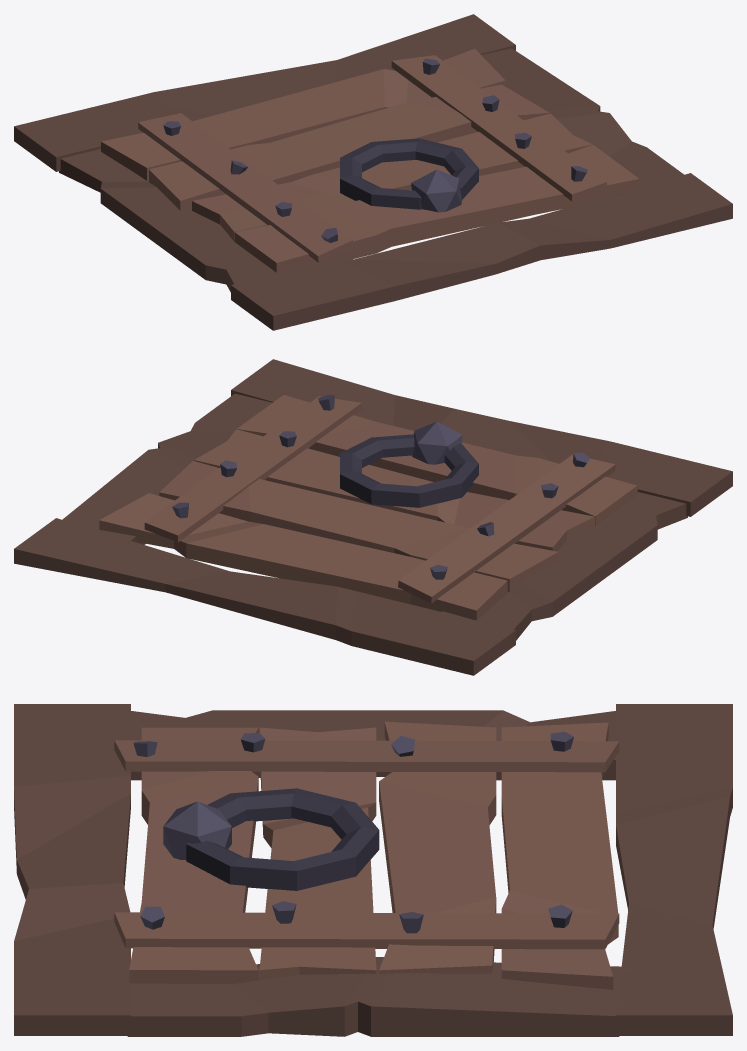
The model's file is Dungeon_Trapdoor.glb.
3 renders of one model, top to bottom at view 1: azimuth 30°, elevation 25°; view 2: azimuth 150°, elevation 25°; view 3: azimuth 270°, elevation 25°, orthographic. The views are drawn at different scales.
Parts seen in each view (by area): view 1: Trapdoor; view 2: Trapdoor; view 3: Trapdoor.
Boxes of the visible parts, x1,y1,x2,y2 form: Trapdoor: (14, 14, 732, 330); Trapdoor: (14, 359, 732, 675); Trapdoor: (14, 704, 732, 1036).
Size of the model in its own units: 1.74 by 0.2151 by 1.7.
